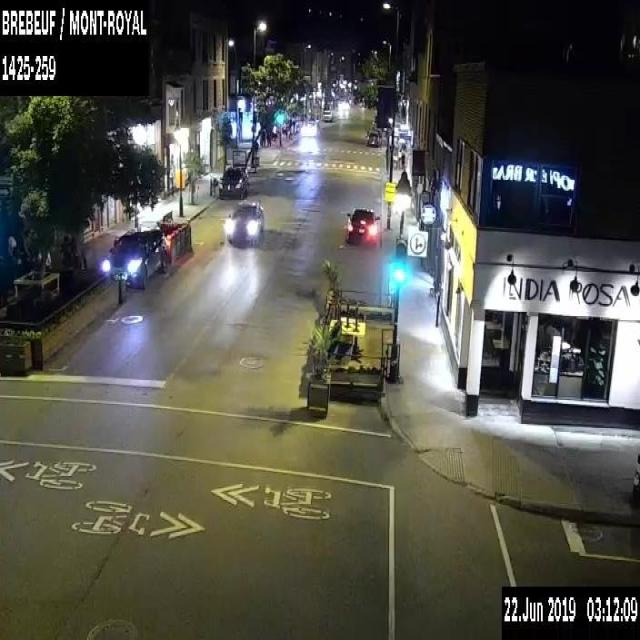pedestrian: (6, 229, 15, 272), (399, 142, 405, 166), (259, 128, 265, 148)
vehicle: (99, 225, 167, 287), (226, 198, 264, 246), (345, 204, 379, 245), (218, 162, 249, 199), (301, 119, 318, 137), (365, 130, 379, 147), (320, 109, 332, 121)
